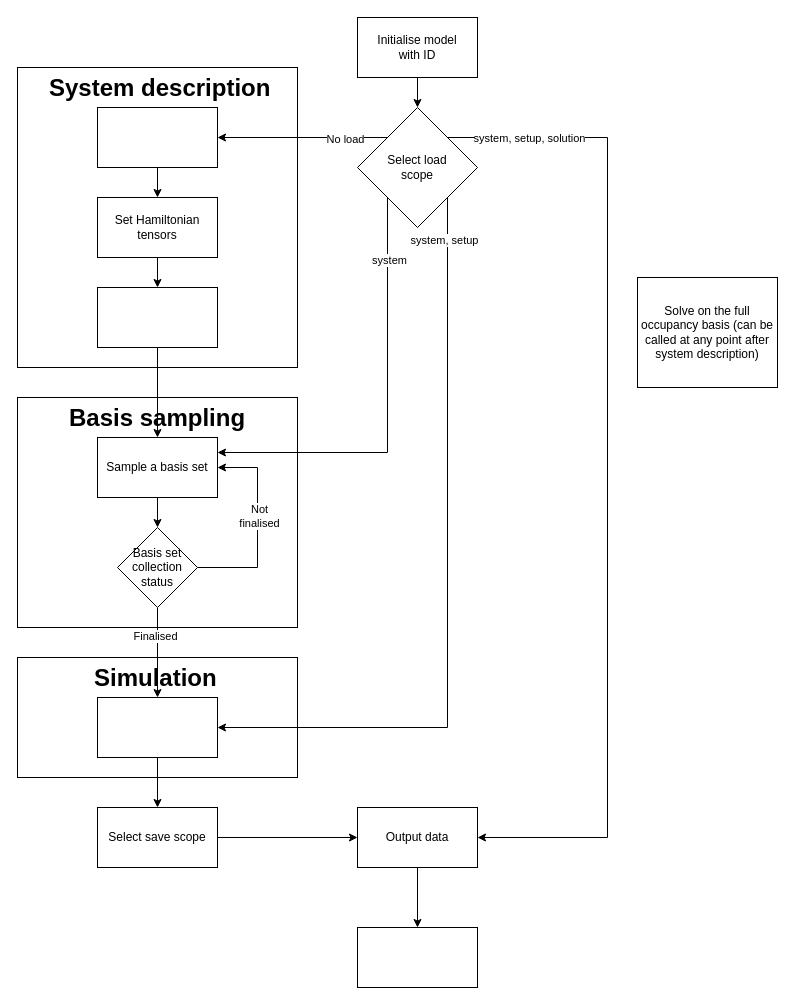
Image size: 795x1005. Some labels were removed from this diagram. Each missing label, with the centre of its shape:
END: point 417,957
Run the selected simulation method: point 157,727
Set abstract initial wavefunction: point 157,317
Set M and S: point 157,137
